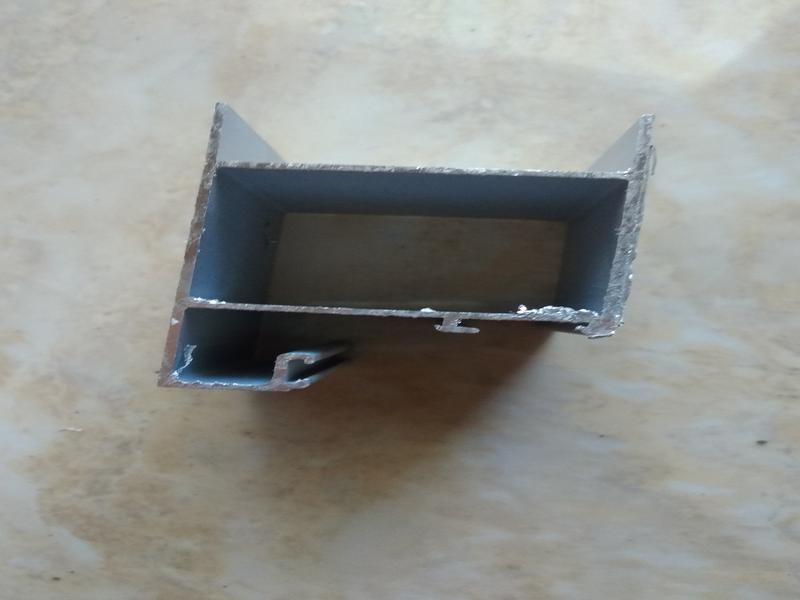Aluminium_2: (140, 70, 686, 423)
